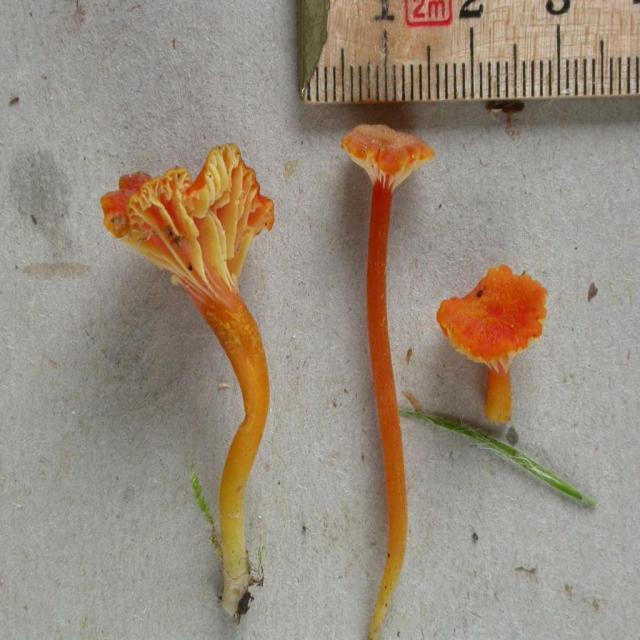Cantharellus cibarius: (102, 149, 276, 616), (341, 118, 433, 630), (440, 266, 547, 428)
